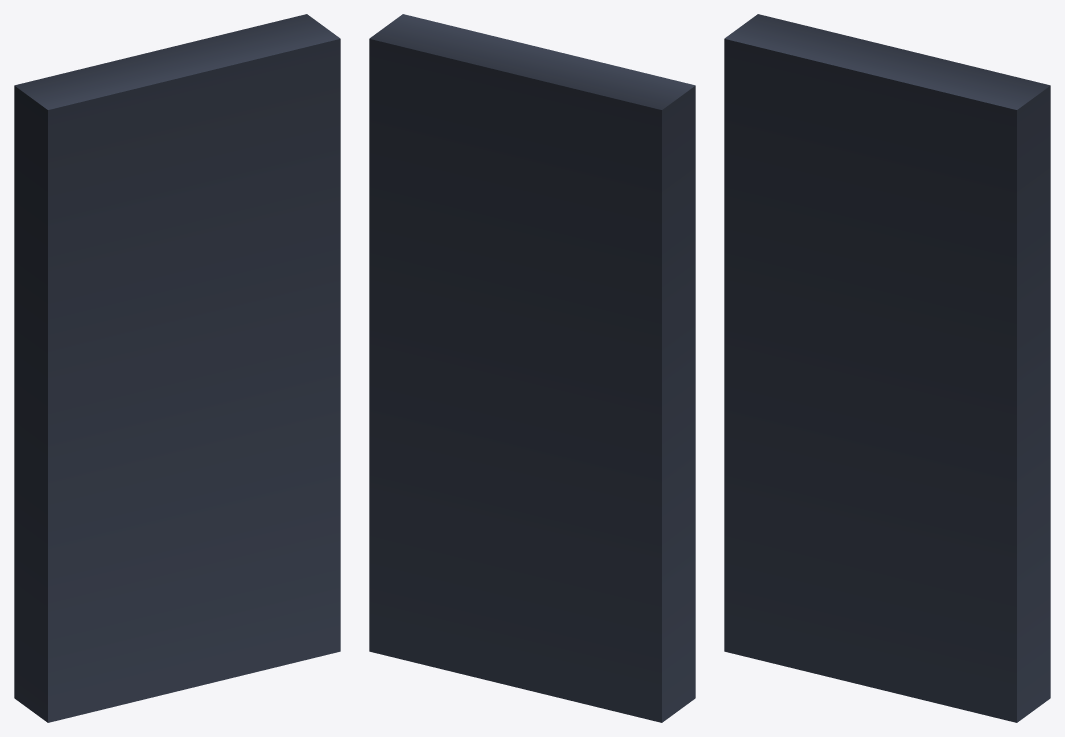
Rendered from KIT_Wall_Straight_2.glb.
The picture shows the model from 3 angles, left to right: view 1: azimuth 30°, elevation 25°; view 2: azimuth 150°, elevation 25°; view 3: azimuth 330°, elevation 25°; orthographic projection.
Parts seen in each view (by area): view 1: KIT_Wall_Straight_2; view 2: KIT_Wall_Straight_2; view 3: KIT_Wall_Straight_2.
Part boxes in pixels (bbox=[...]): KIT_Wall_Straight_2: bbox=[14, 14, 340, 722]; KIT_Wall_Straight_2: bbox=[369, 14, 695, 722]; KIT_Wall_Straight_2: bbox=[724, 14, 1050, 722].
Bounding box in the file's own units: 2 × 4 × 0.4.
Materials: 1 (1 with a texture image).
